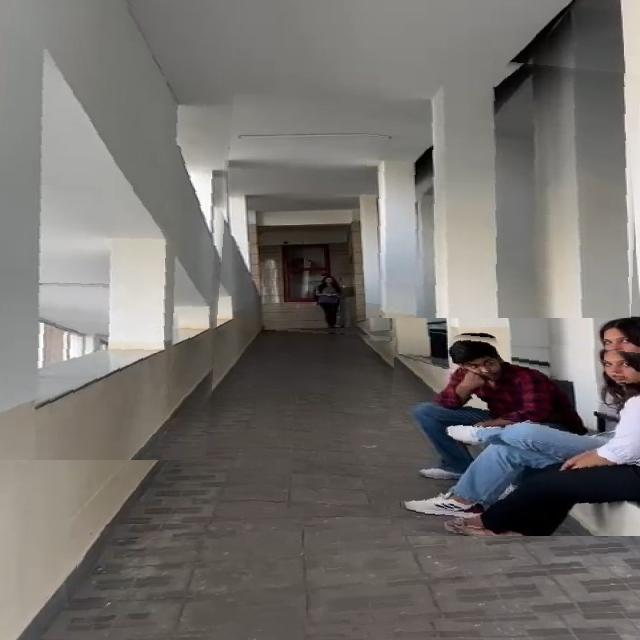floor: (75, 524, 640, 640), (257, 326, 396, 516)
moving_object: (398, 328, 640, 536)
wall: (0, 0, 240, 460), (366, 48, 640, 318)
